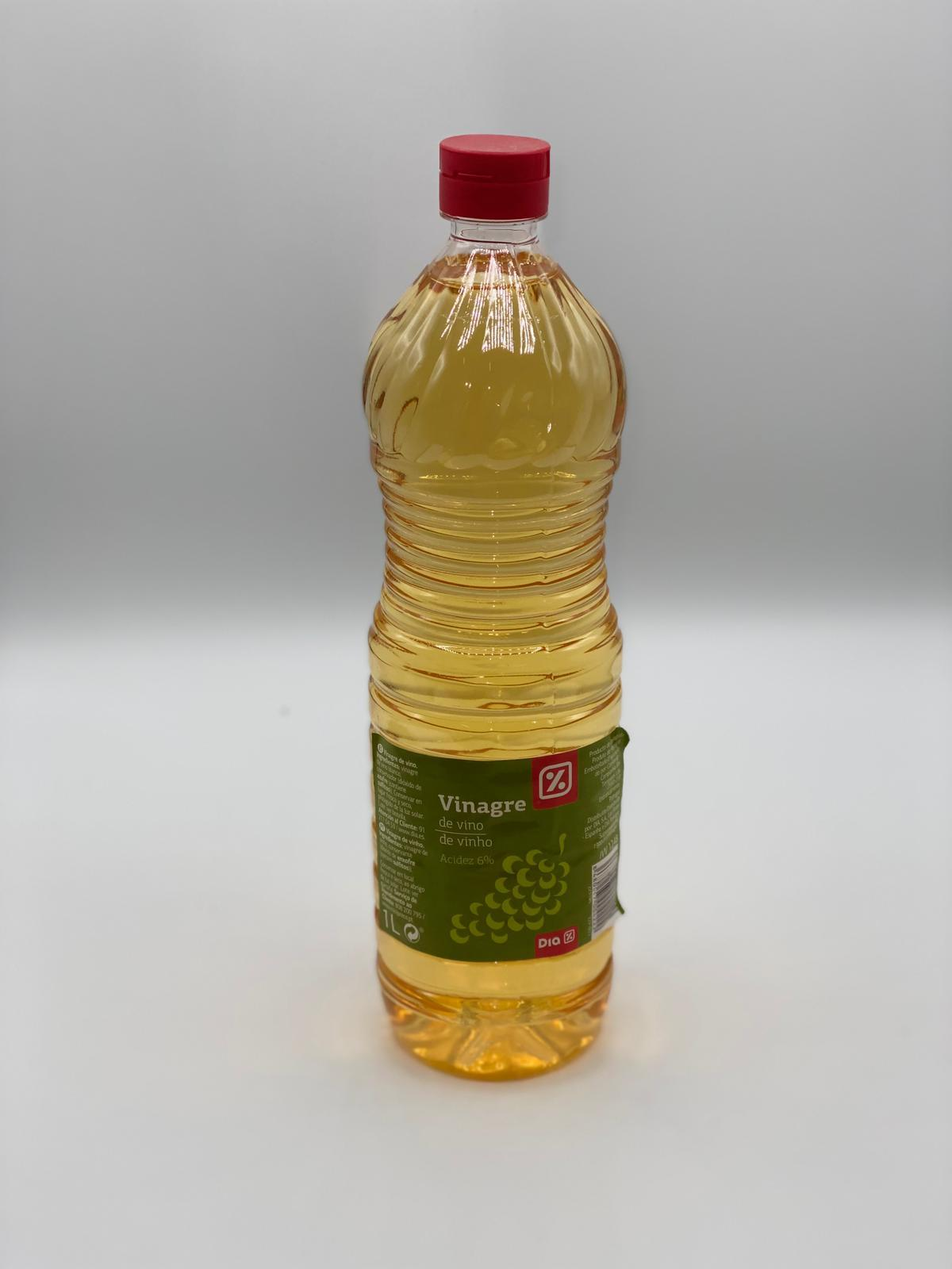plastic: (359, 134, 628, 1087)
